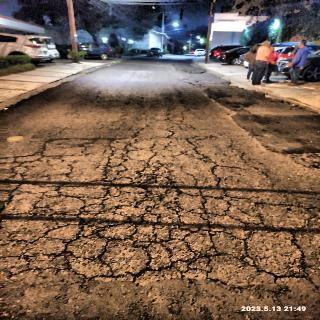pothole: (5, 134, 320, 293)
